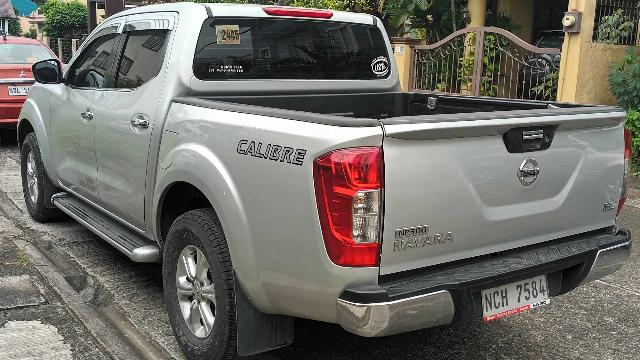pickup-truck: (17, 3, 632, 360)
